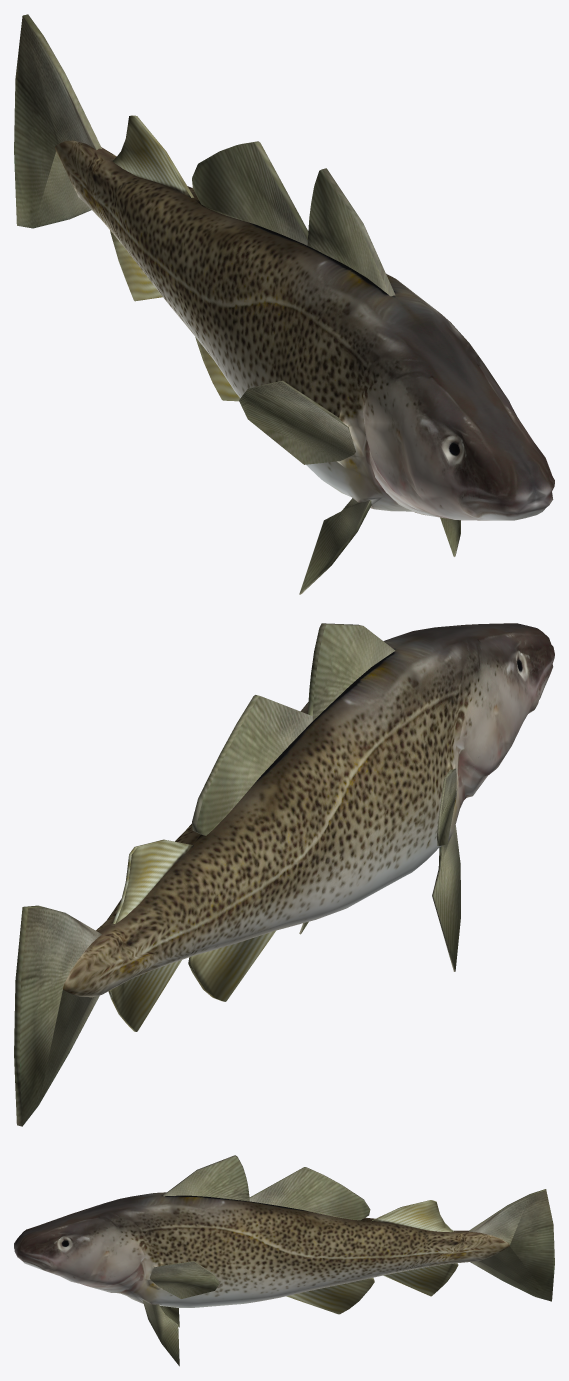
Rendered from turska2.glb.
3 renders of one model, top to bottom at view 1: azimuth 30°, elevation 25°; view 2: azimuth 150°, elevation 25°; view 3: azimuth 270°, elevation 25°, orthographic. The views are drawn at different scales.
Visible parts, largest first — view 1: Cube.001; view 2: Cube.001; view 3: Cube.001.
Boxes of the visible parts, x1,y1,x2,y2 form: Cube.001: [14, 14, 554, 594]; Cube.001: [14, 623, 554, 1126]; Cube.001: [14, 1155, 554, 1366].
Bounding box in the file's own units: 1.07 × 1.87 × 4.79.
1 material, 1 textured.
